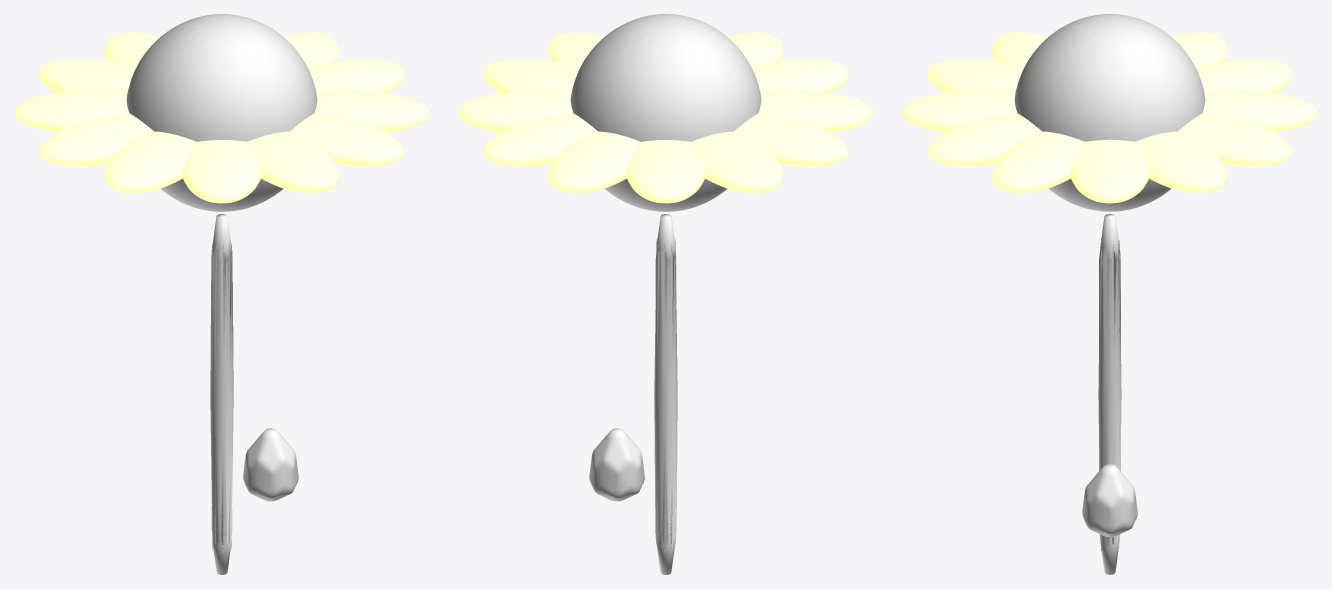
The model's file is plant_flower_sunflower_v3.glb.
The picture shows the model from 3 angles, left to right: view 1: azimuth 30°, elevation 25°; view 2: azimuth 150°, elevation 25°; view 3: azimuth 270°, elevation 25°; orthographic projection.
Parts seen in each view (by area): view 1: center.002, st.003, pt_8, pt_9, pt_7.001, pt_10, pt_6.001, pt_5.002, pt_11, lf.001, pt_4.003, pt_0.003 (+2 smaller); view 2: center.002, st.003, pt_4.003, pt_3.003, pt_5.002, pt_2.003, pt_6.001, pt_7.001, pt_1.003, lf.001, pt_8, pt_0.003 (+2 smaller); view 3: center.002, st.003, pt_0.003, pt_1.003, pt_11, pt_10, pt_2.003, pt_3.003, pt_9, lf.001, pt_4.003, pt_8 (+2 smaller).
Part boxes in pixels (bbox=[...]): center.002: bbox=[126, 14, 317, 211]; st.003: bbox=[210, 214, 233, 574]; pt_8: bbox=[182, 140, 261, 203]; pt_9: bbox=[247, 131, 339, 193]; pt_7.001: bbox=[104, 131, 196, 193]; pt_10: bbox=[290, 113, 404, 166]; pt_6.001: bbox=[39, 113, 153, 166]; pt_5.002: bbox=[14, 90, 129, 132]; pt_11: bbox=[315, 90, 429, 132]; lf.001: bbox=[243, 428, 298, 501]; pt_4.003: bbox=[39, 59, 136, 92]; pt_0.003: bbox=[307, 59, 404, 92]; center.002: bbox=[570, 14, 761, 211]; st.003: bbox=[654, 214, 677, 574]; pt_4.003: bbox=[626, 140, 705, 203]; pt_3.003: bbox=[548, 131, 640, 193]; pt_5.002: bbox=[691, 131, 783, 193]; pt_2.003: bbox=[483, 113, 597, 166]; pt_6.001: bbox=[734, 113, 848, 166]; pt_7.001: bbox=[758, 90, 873, 132]; pt_1.003: bbox=[458, 90, 572, 132]; lf.001: bbox=[589, 428, 644, 501]; pt_8: bbox=[751, 59, 848, 92]; pt_0.003: bbox=[483, 59, 580, 92]; center.002: bbox=[1014, 14, 1205, 211]; st.003: bbox=[1098, 214, 1121, 574]; pt_0.003: bbox=[1070, 139, 1149, 203]; pt_1.003: bbox=[1135, 131, 1227, 193]; pt_11: bbox=[992, 131, 1084, 193]; pt_10: bbox=[927, 113, 1041, 166]; pt_2.003: bbox=[1178, 113, 1292, 166]; pt_3.003: bbox=[1202, 90, 1317, 132]; pt_9: bbox=[902, 90, 1017, 132]; lf.001: bbox=[1082, 464, 1137, 536]; pt_4.003: bbox=[1195, 59, 1292, 92]; pt_8: bbox=[927, 59, 1024, 92].
Size of the model in its own units: 0.7356 by 1.08 by 0.7356.
